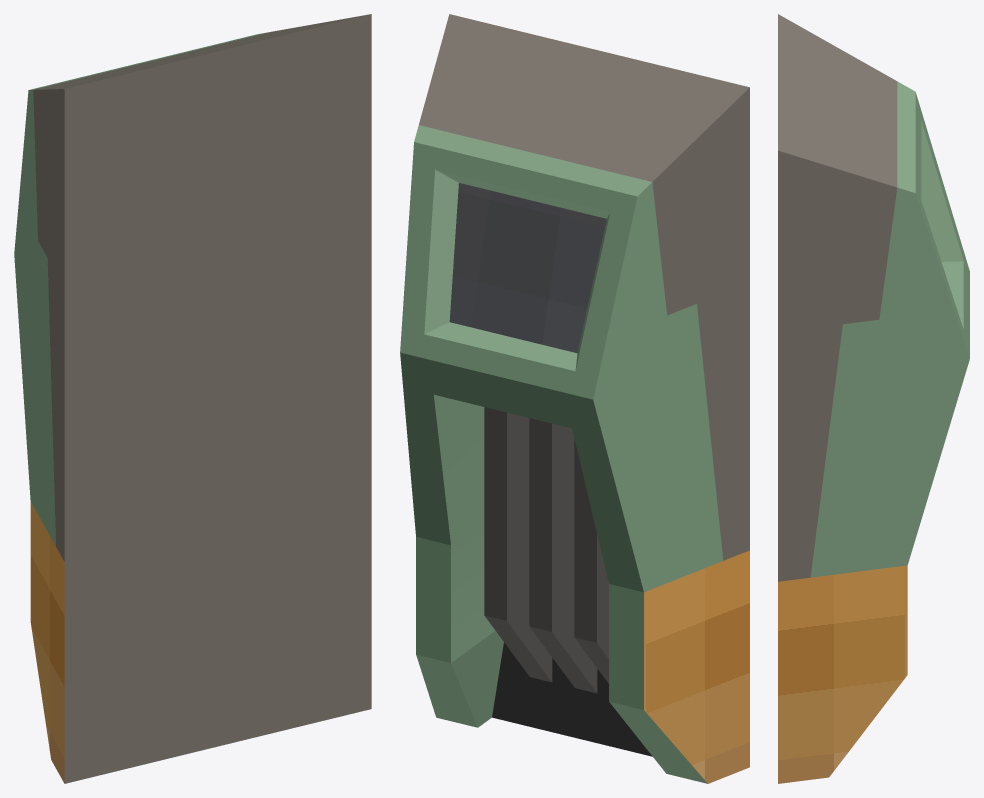
The model's file is entity113596.glb.
3 renders of one model, left to right at view 1: azimuth 30°, elevation 25°; view 2: azimuth 150°, elevation 25°; view 3: azimuth 270°, elevation 25°, orthographic. The views are drawn at different scales.
Visible parts, largest first — view 1: node_SM_Bld_Greeble_11 (4); view 2: node_SM_Bld_Greeble_11 (4); view 3: node_SM_Bld_Greeble_11 (4).
Boxes of the visible parts, box(x1,y1,x2,y2) form: node_SM_Bld_Greeble_11 (4): box(14, 14, 371, 783); node_SM_Bld_Greeble_11 (4): box(400, 14, 749, 783); node_SM_Bld_Greeble_11 (4): box(778, 14, 969, 783).
Size of the model in its own units: 0.4705 by 1.02 by 0.2793.
Materials: 1 (1 with a texture image).
